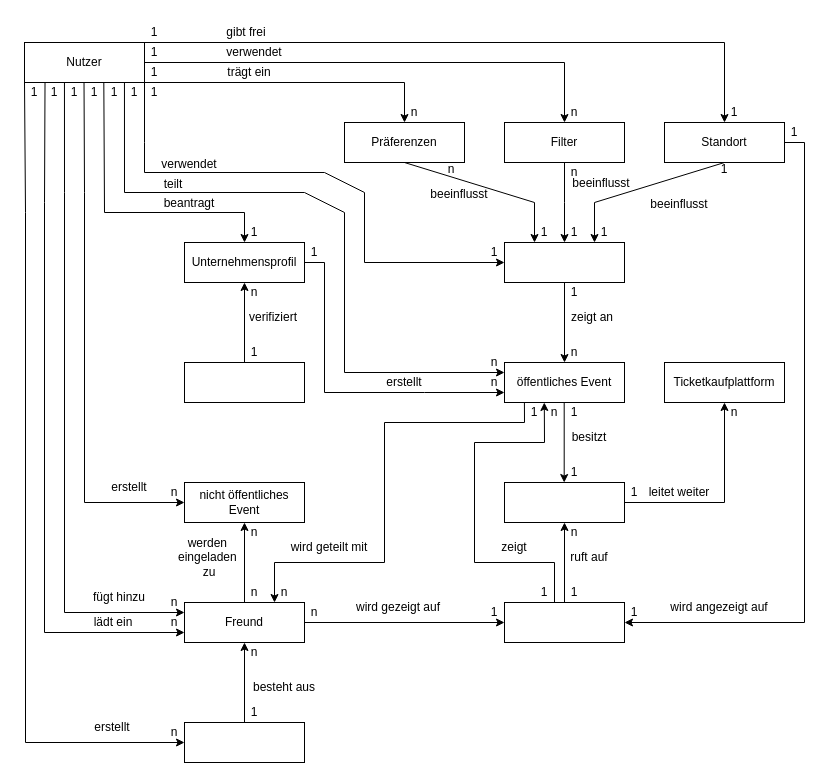
The diagram is 830 pixels wide and 780 high, and some of its shapes have lost their labels. The shapes that lost their labels are listed below. From the top down, each one's centre as x and y in pixels, then its label:
At (x=564, y=262): "Suche".
At (x=244, y=382): "Mitarbeiter".
At (x=564, y=502): "Detail-eventbeschreibung".
At (x=564, y=622): "Karte".
At (x=244, y=742): "Freundesliste".
